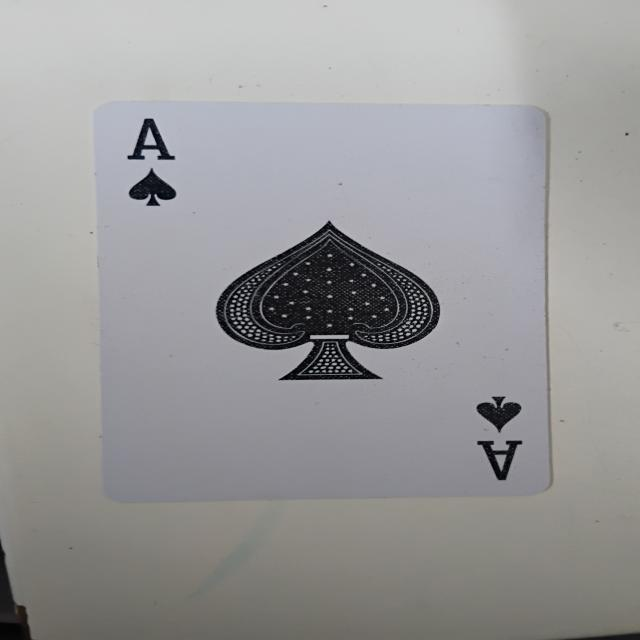AS: (89, 90, 577, 514)
